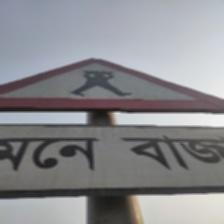Market-in-front: (1, 57, 223, 202)
